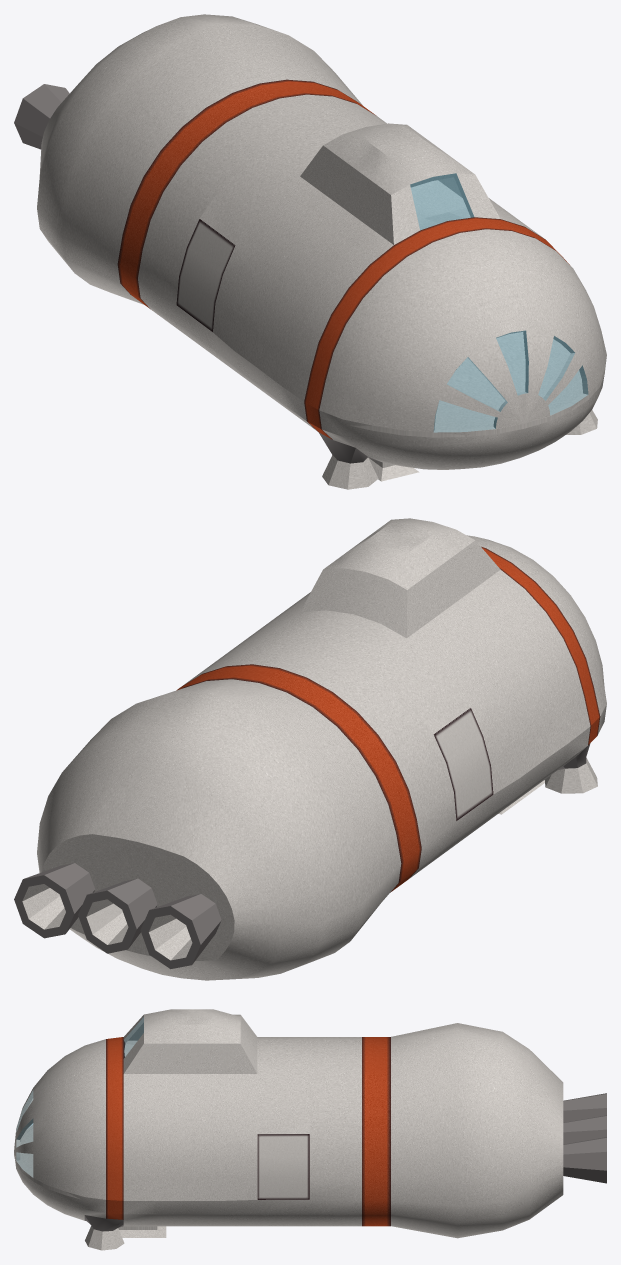
File: Ship_Fly.fbx
The picture shows the model from 3 angles, top to bottom: view 1: azimuth 30°, elevation 25°; view 2: azimuth 150°, elevation 25°; view 3: azimuth 270°, elevation 25°; orthographic projection. The views are drawn at different scales.
Visible parts, largest first — view 1: Cylinder.001, Cylinder, Cylinder.002, Door.R; view 2: Cylinder, Cylinder.001, Door.R; view 3: Cylinder, Cylinder.001, Door.L, Cylinder.002.
Boxes of the visible parts, bbox=[...] form: Cylinder.001: bbox=[199, 121, 606, 432]; Cylinder: bbox=[14, 14, 606, 489]; Cylinder.002: bbox=[410, 173, 587, 432]; Door.R: bbox=[176, 219, 235, 331]; Cylinder: bbox=[14, 637, 606, 980]; Cylinder.001: bbox=[220, 518, 606, 794]; Door.R: bbox=[433, 708, 493, 820]; Cylinder: bbox=[14, 1023, 606, 1250]; Cylinder.001: bbox=[14, 1009, 309, 1200]; Door.L: bbox=[257, 1134, 309, 1199]; Cylinder.002: bbox=[16, 1017, 143, 1176].
Size of the model in its own units: 432 by 396 by 1036.
2 materials, 1 textured.
